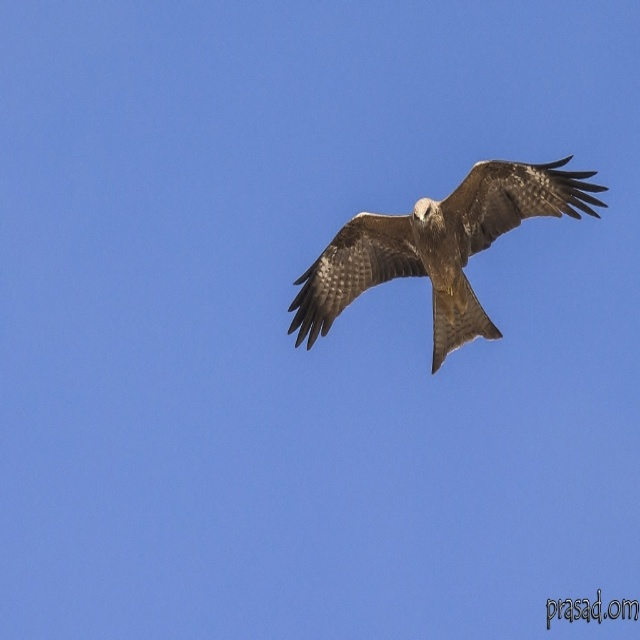Eagle: (282, 149, 618, 386)
